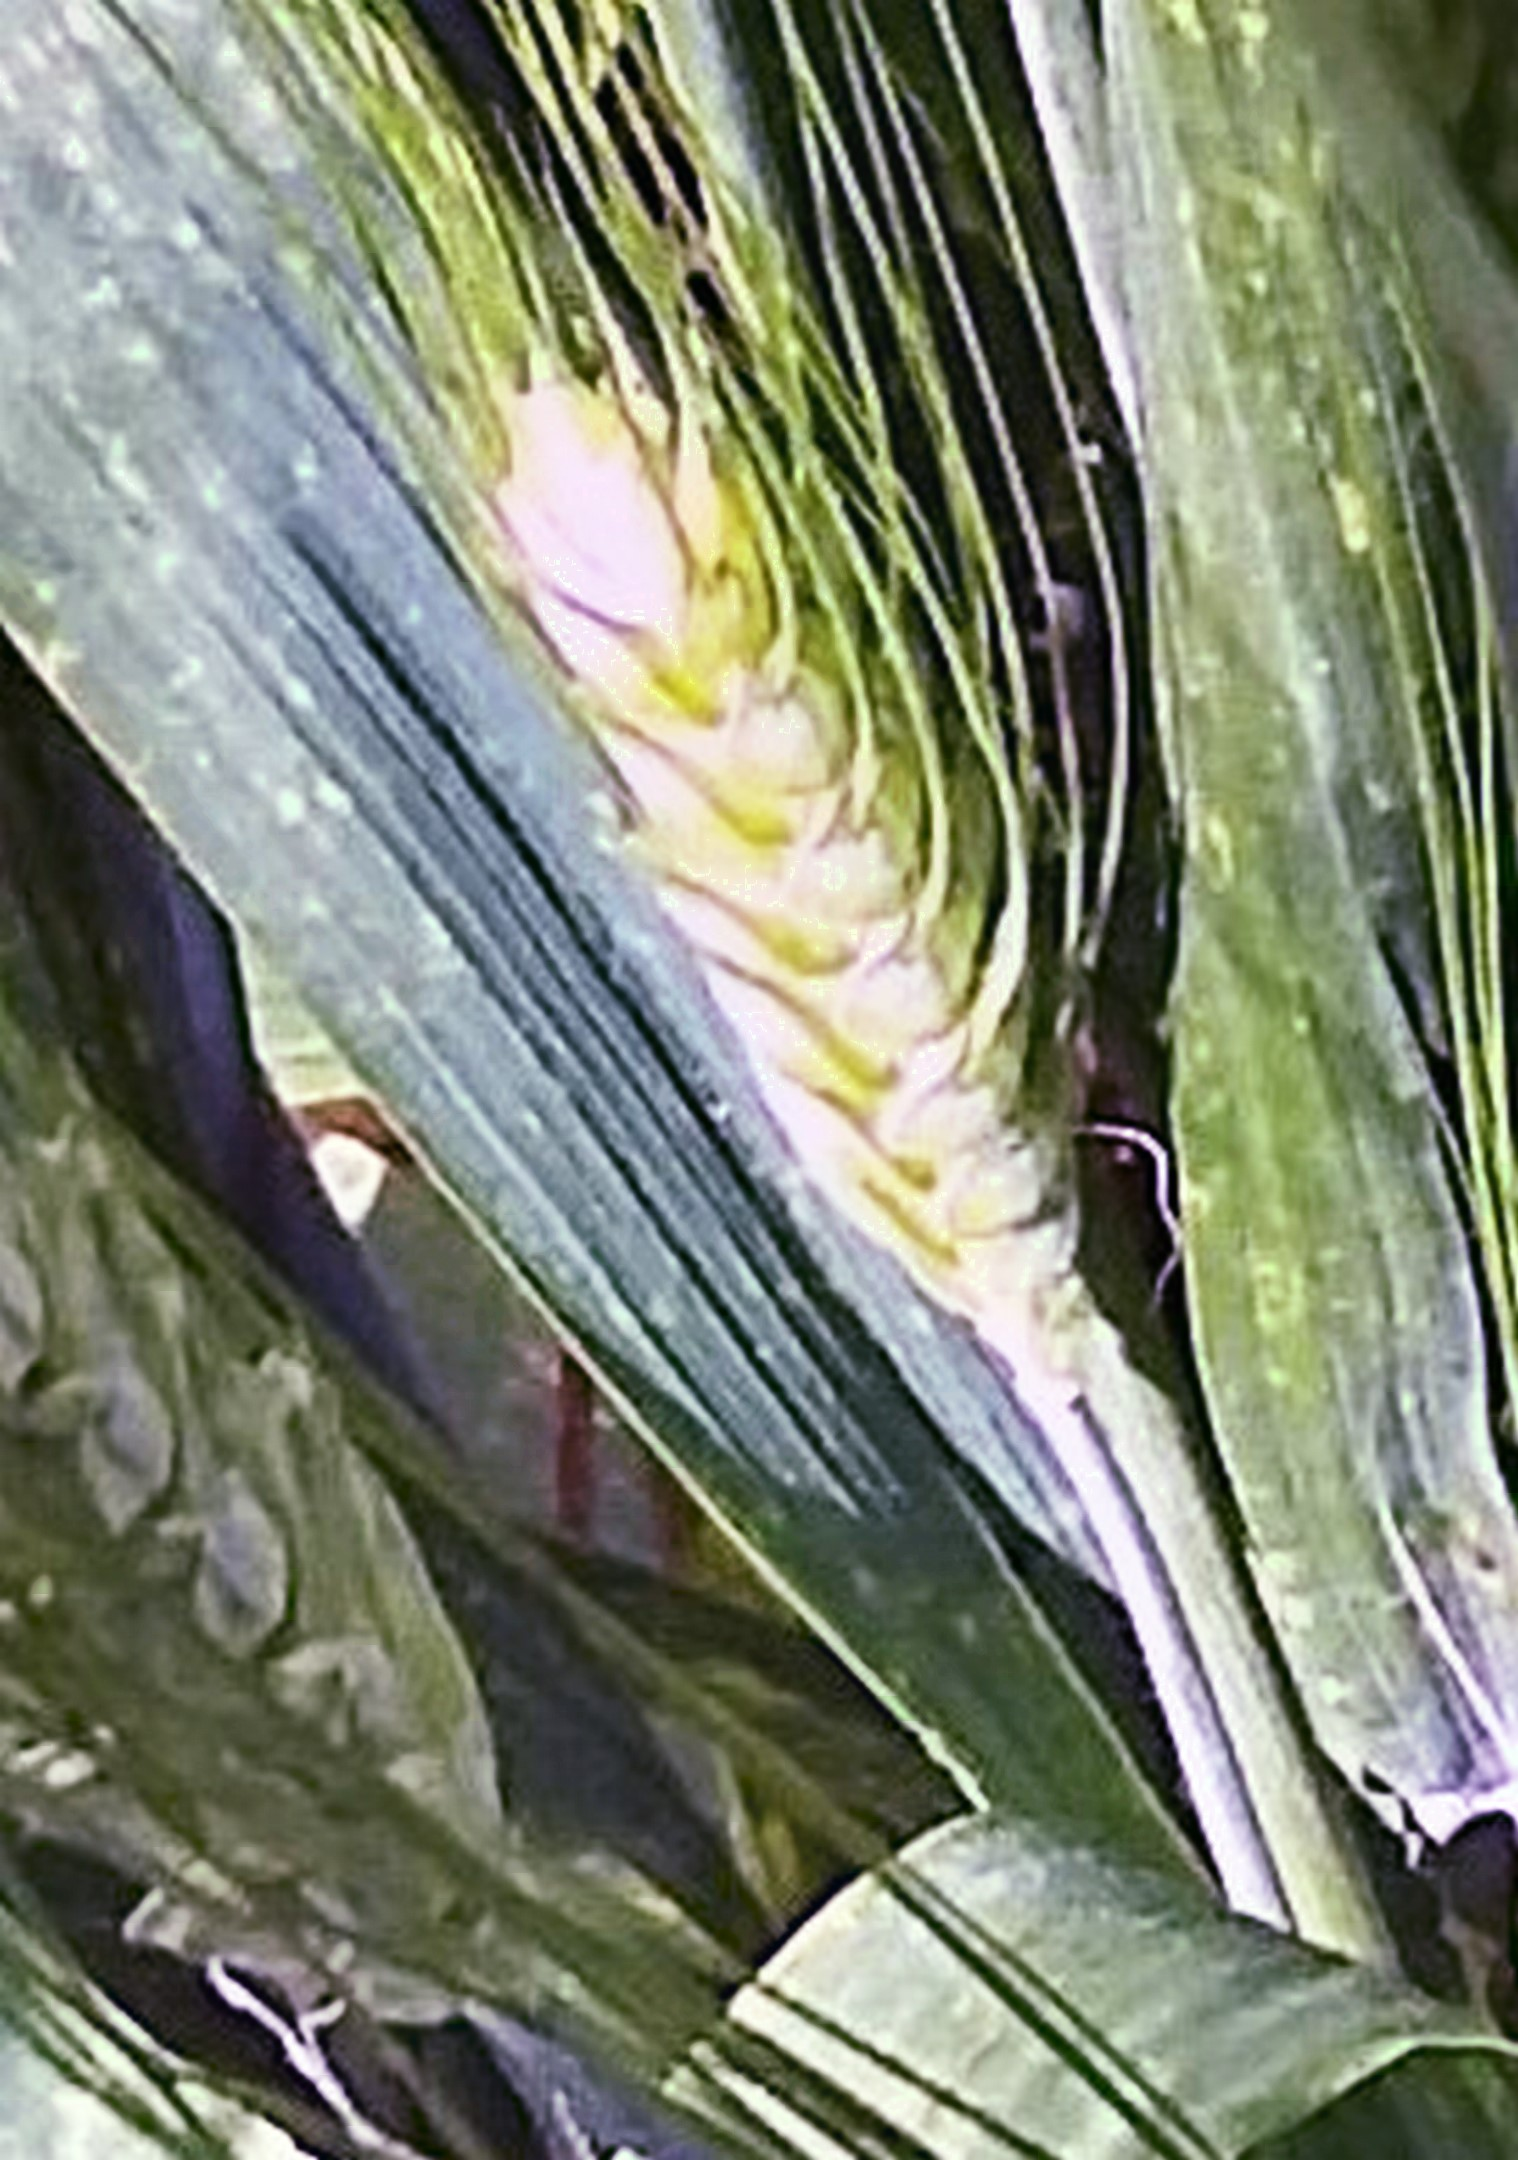Healthy Wheat: (437, 315, 1115, 1311)
